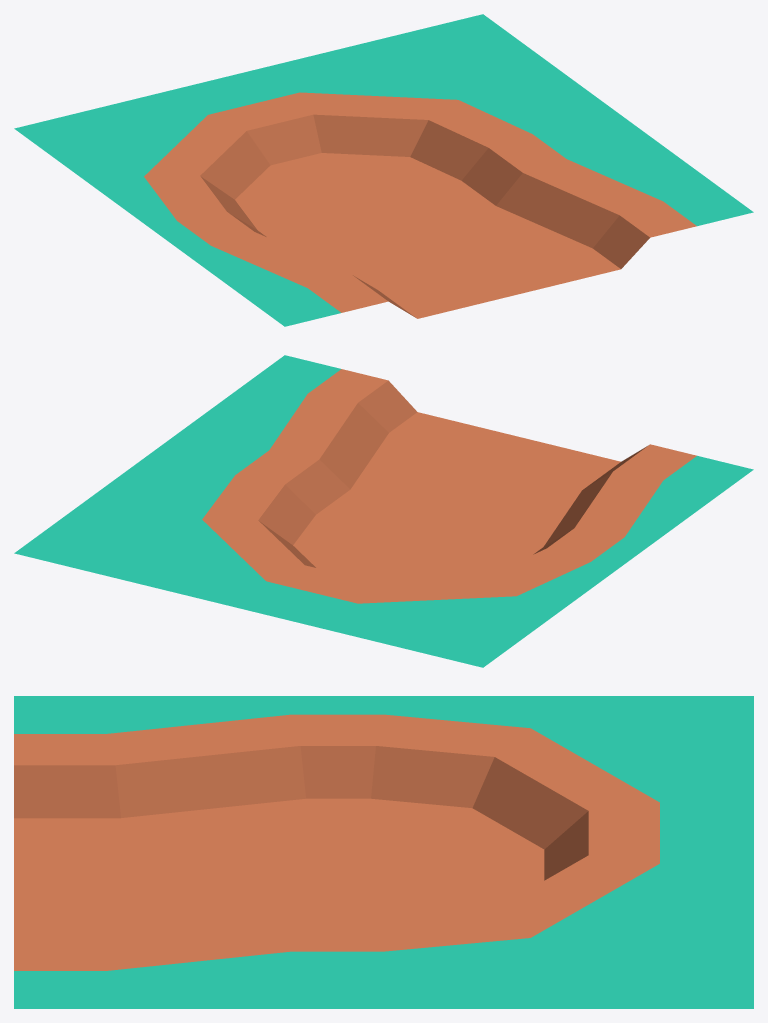
3 views of the same model, one above another, from view 1: azimuth 30°, elevation 25°; view 2: azimuth 150°, elevation 25°; view 3: azimuth 270°, elevation 25° (orthographic). The views are drawn at different scales.
Parts seen in each view (by area): view 1: ground_pathEndClosed; view 2: ground_pathEndClosed; view 3: ground_pathEndClosed.
Boxes of the visible parts, x1,y1,x2,y2 form: ground_pathEndClosed: (14, 14, 753, 326); ground_pathEndClosed: (14, 355, 753, 667); ground_pathEndClosed: (14, 696, 753, 1008).
Bounding box in the file's own units: 1 × 0.05 × 1.
